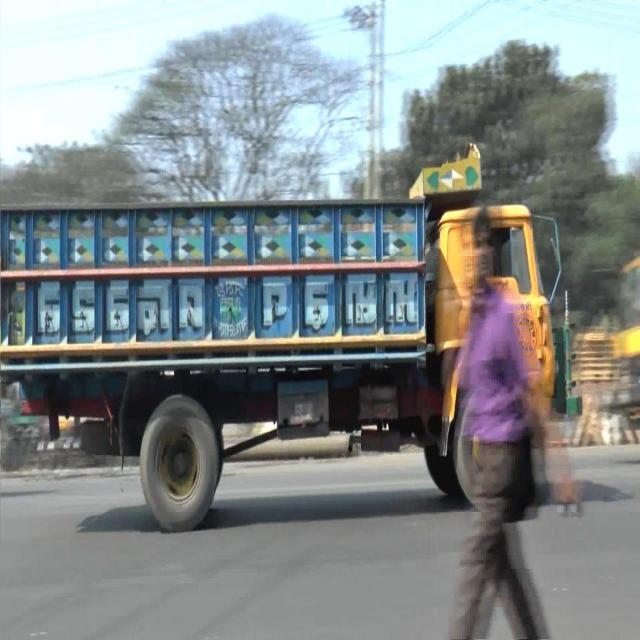truck: (0, 153, 553, 536)
